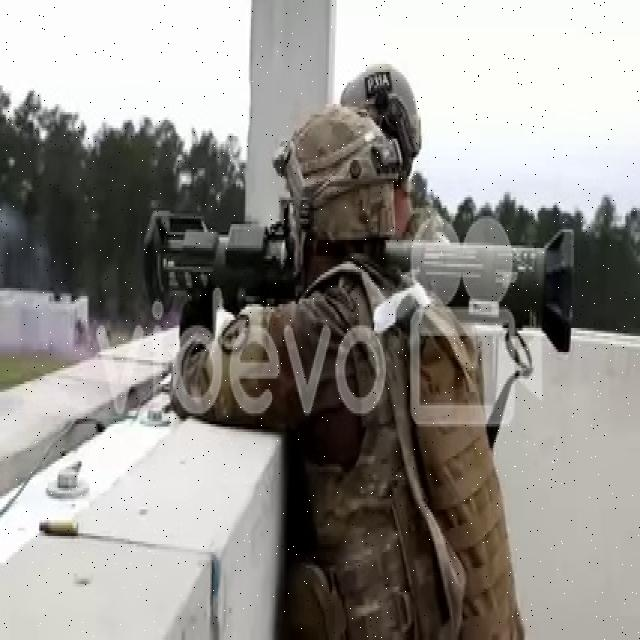bazooka: (138, 194, 584, 364)
